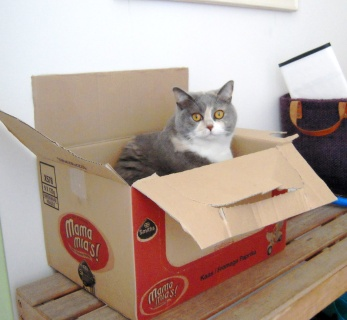Cat: (111, 80, 237, 186)
